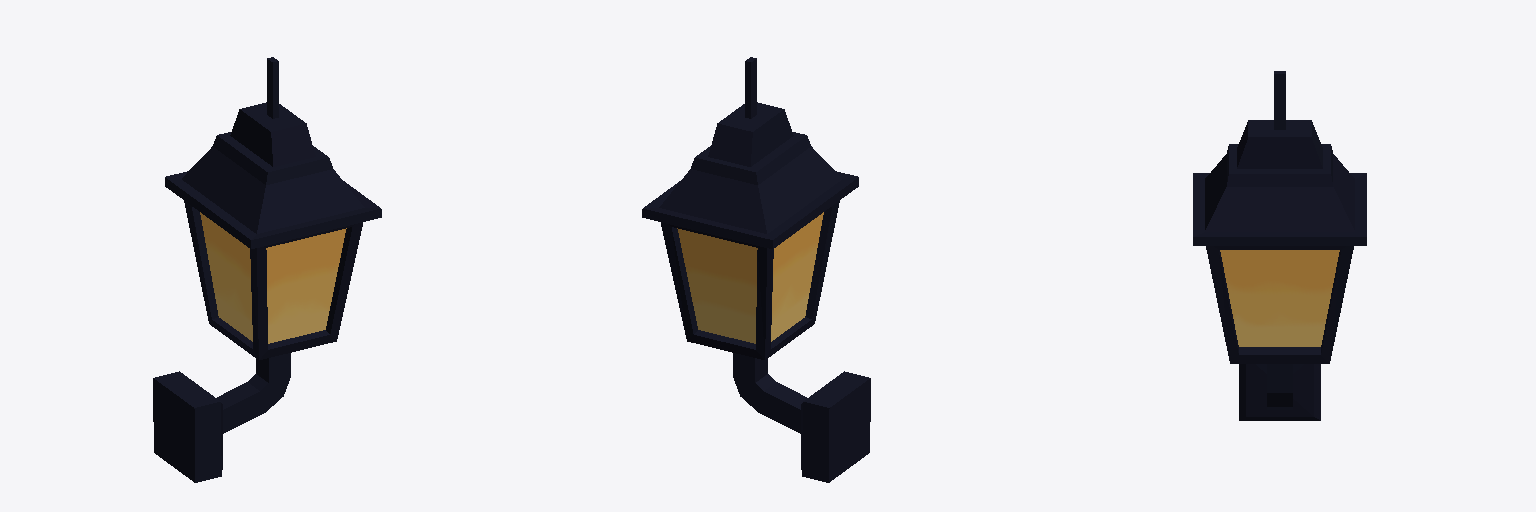
The picture shows the model from 3 angles: view 1: azimuth 30°, elevation 25°; view 2: azimuth 150°, elevation 25°; view 3: azimuth 270°, elevation 25°; orthographic projection.
Visible parts, largest first — view 1: WallRantarn; view 2: WallRantarn; view 3: WallRantarn.
Boxes of the visible parts, x1,y1,x2,y2 form: WallRantarn: [153, 57, 381, 482]; WallRantarn: [642, 57, 870, 482]; WallRantarn: [1193, 71, 1366, 420].
Bounding box in the file's own units: 1.25 × 2.8 × 1.14.
Materials: 1 (1 with a texture image).